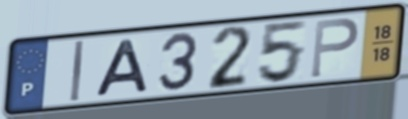2: (206, 24, 254, 92)
3: (156, 30, 199, 94)
5: (257, 18, 311, 85)
A: (93, 37, 151, 99)
I: (69, 39, 87, 104)
P: (308, 16, 361, 80)
